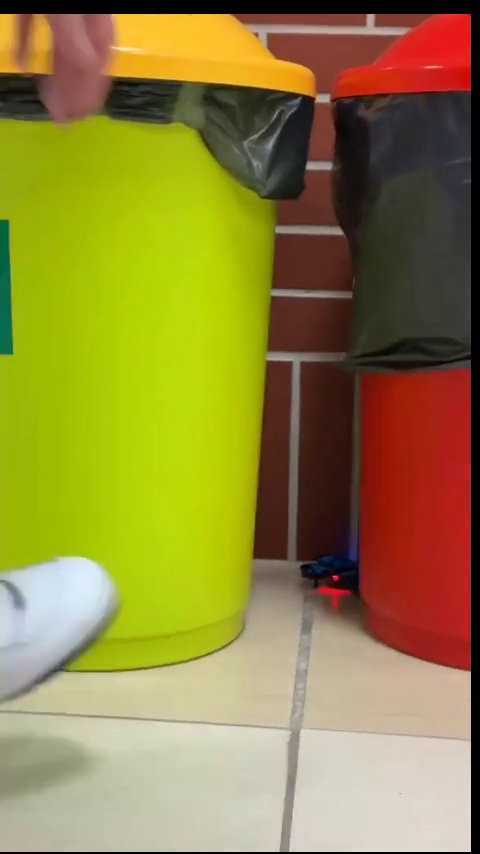drone: (299, 549, 348, 594)
